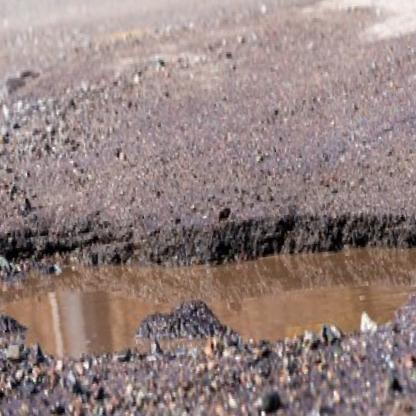pothole: (0, 173, 416, 392)
